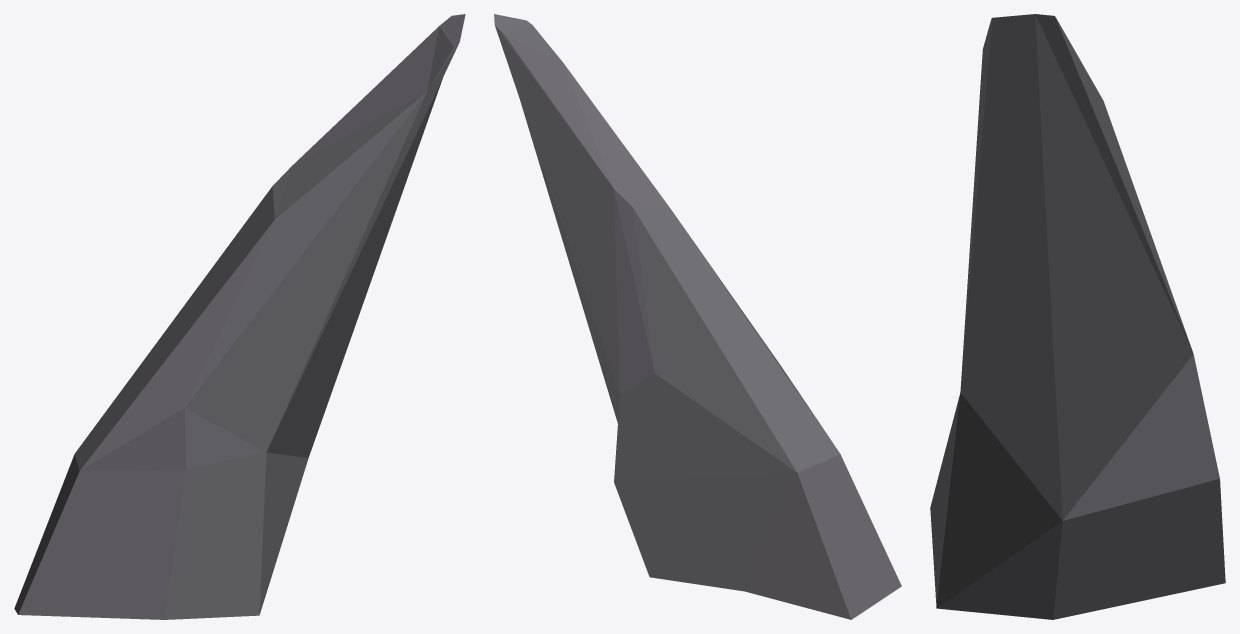
Rendered from Rock_Sharp_m_11.fbx.
3 views of the same model, side by side, from view 1: azimuth 30°, elevation 25°; view 2: azimuth 150°, elevation 25°; view 3: azimuth 270°, elevation 25° (orthographic). The views are drawn at different scales.
Parts seen in each view (by area): view 1: Rock_Sharp_m_11; view 2: Rock_Sharp_m_11; view 3: Rock_Sharp_m_11.
Part boxes in pixels (x1,y1,x2,y2): Rock_Sharp_m_11: (14, 14, 465, 619); Rock_Sharp_m_11: (494, 14, 901, 619); Rock_Sharp_m_11: (930, 14, 1225, 619).
Size of the model in its own units: 1.66 by 1.86 by 0.6498.
